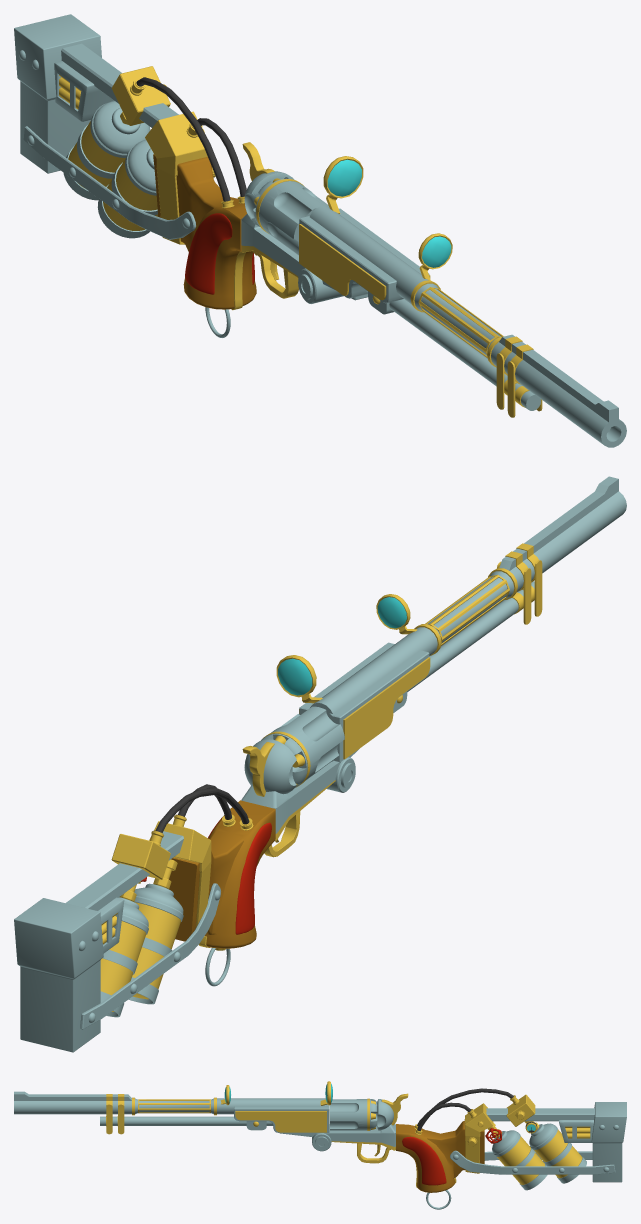
Rendered from ееее.fbx.
The picture shows the model from 3 angles, top to bottom: view 1: azimuth 30°, elevation 25°; view 2: azimuth 150°, elevation 25°; view 3: azimuth 270°, elevation 25°; orthographic projection. The views are drawn at different scales.
Visible parts, largest first — view 1: Cylinder.011; view 2: Cylinder.011; view 3: Cylinder.011.
Boxes of the visible parts, left/top/right/bottom form: Cylinder.011: left=14, top=14, right=626, bottom=447; Cylinder.011: left=14, top=476, right=626, bottom=1052; Cylinder.011: left=14, top=1081, right=626, bottom=1209.
Size of the model in its own units: 95.83 by 300 by 1251.
